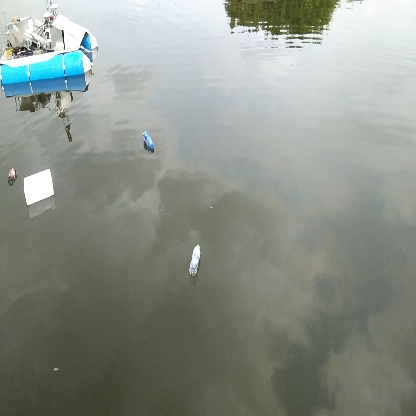bottle: (188, 241, 203, 277), (140, 127, 157, 153)
plastic-garbage: (21, 166, 59, 208)
